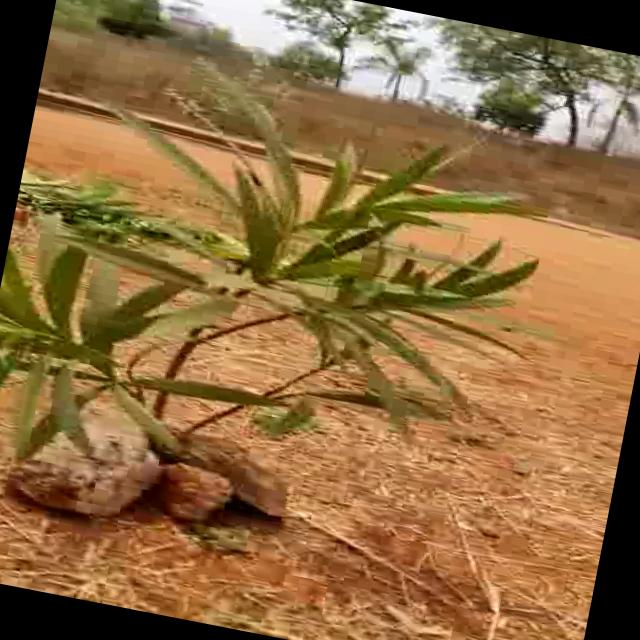Oleander: (0, 79, 577, 486)
